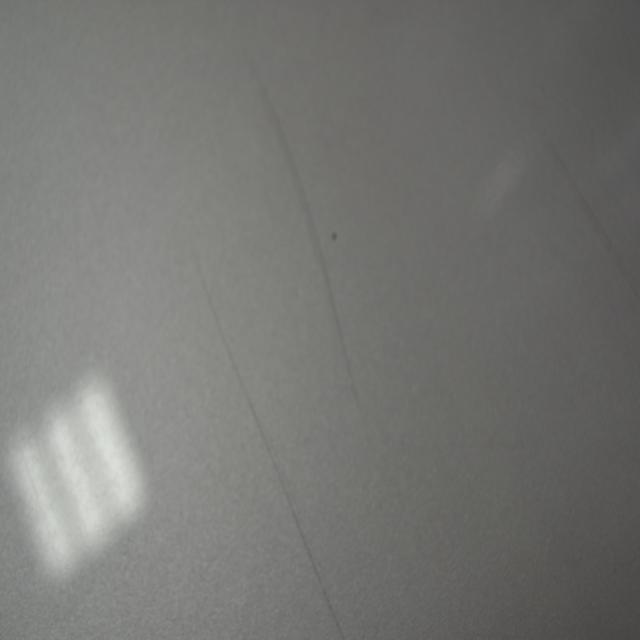dirt: (325, 223, 340, 250)
scratch: (190, 244, 349, 640), (238, 51, 378, 444), (533, 110, 640, 310)
